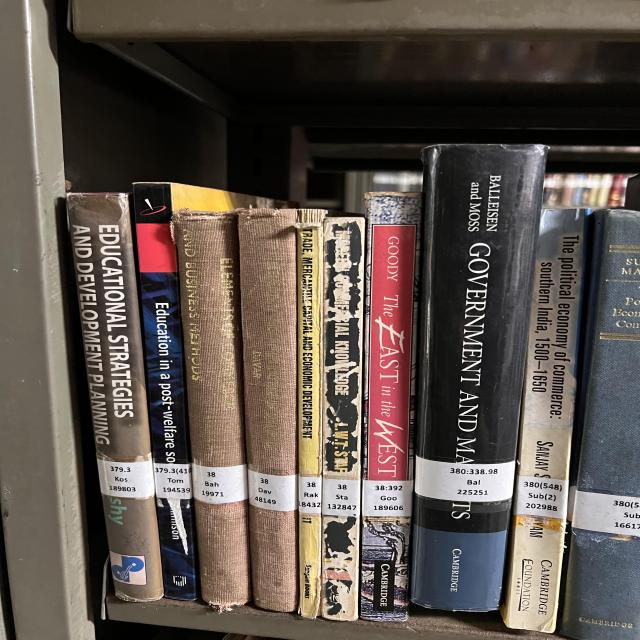Book: (133, 182, 288, 600), (412, 145, 547, 611), (67, 192, 163, 601), (502, 209, 588, 632), (560, 210, 640, 640), (172, 210, 250, 610), (360, 192, 422, 621), (238, 209, 298, 611), (320, 218, 365, 620), (297, 209, 327, 619), (300, 316, 310, 420)
Label: (415, 456, 515, 502), (97, 459, 155, 499), (515, 476, 568, 519), (192, 464, 247, 504), (248, 470, 297, 511), (362, 480, 413, 516), (322, 478, 360, 516), (153, 462, 192, 499), (298, 476, 322, 514)
